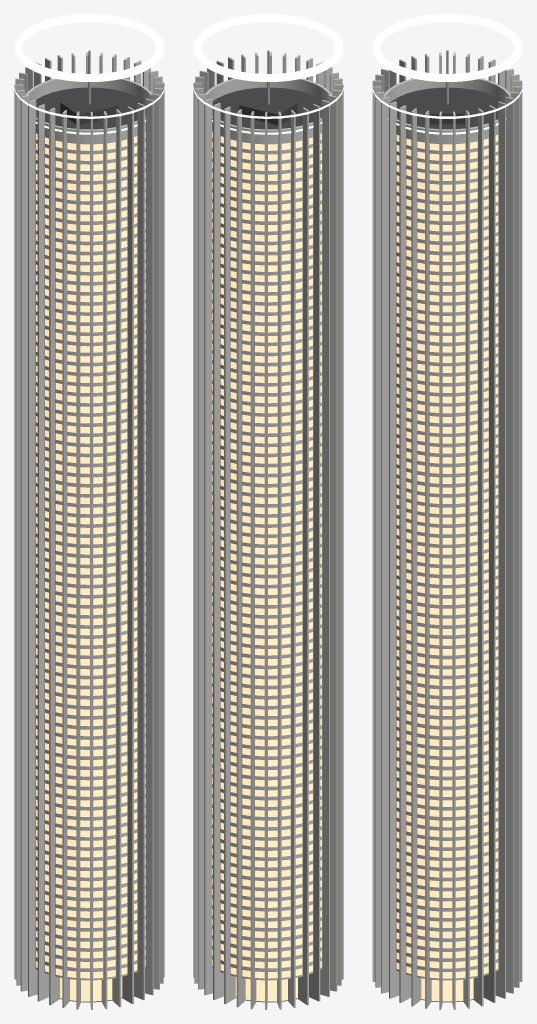
The model's file is ring-cylinder.glb.
3 renders of one model, left to right at view 1: azimuth 30°, elevation 25°; view 2: azimuth 150°, elevation 25°; view 3: azimuth 270°, elevation 25°, orthographic.
Parts seen in each view (by area): view 1: Body_Concrete, Windows, Body_Roof, Ring, Crown; view 2: Body_Concrete, Windows, Body_Roof, Ring, Crown; view 3: Body_Concrete, Windows, Body_Roof, Ring, Crown.
Boxes of the visible parts, x1,y1,x2,y2 form: Body_Concrete: [14, 52, 164, 1009]; Windows: [36, 131, 145, 1001]; Body_Roof: [36, 87, 145, 129]; Ring: [14, 14, 164, 81]; Crown: [14, 84, 164, 134]; Body_Concrete: [193, 52, 343, 1009]; Windows: [212, 131, 321, 1001]; Body_Roof: [212, 87, 321, 129]; Ring: [193, 14, 343, 81]; Crown: [193, 84, 343, 134]; Body_Concrete: [372, 52, 522, 1009]; Windows: [396, 135, 498, 1001]; Body_Roof: [390, 87, 504, 129]; Ring: [372, 14, 522, 81]; Crown: [372, 88, 522, 134].
Bounding box in the file's own units: 5.13 × 35.16 × 5.13.
